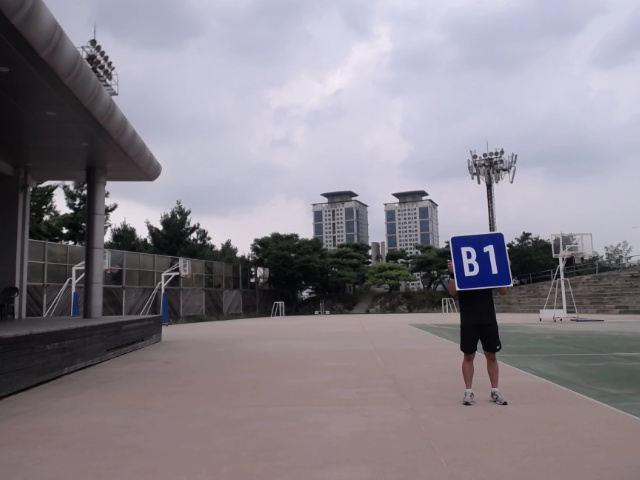delivery_b1: (450, 232, 512, 290)
